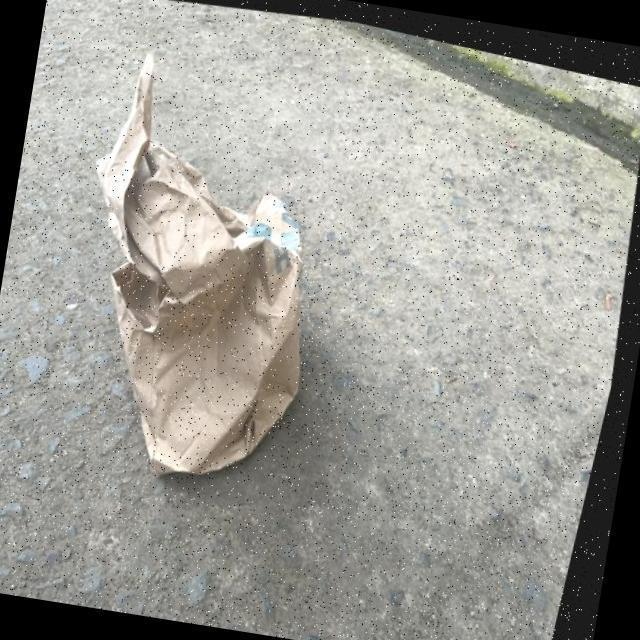Paper_Bag: (25, 21, 382, 516)
